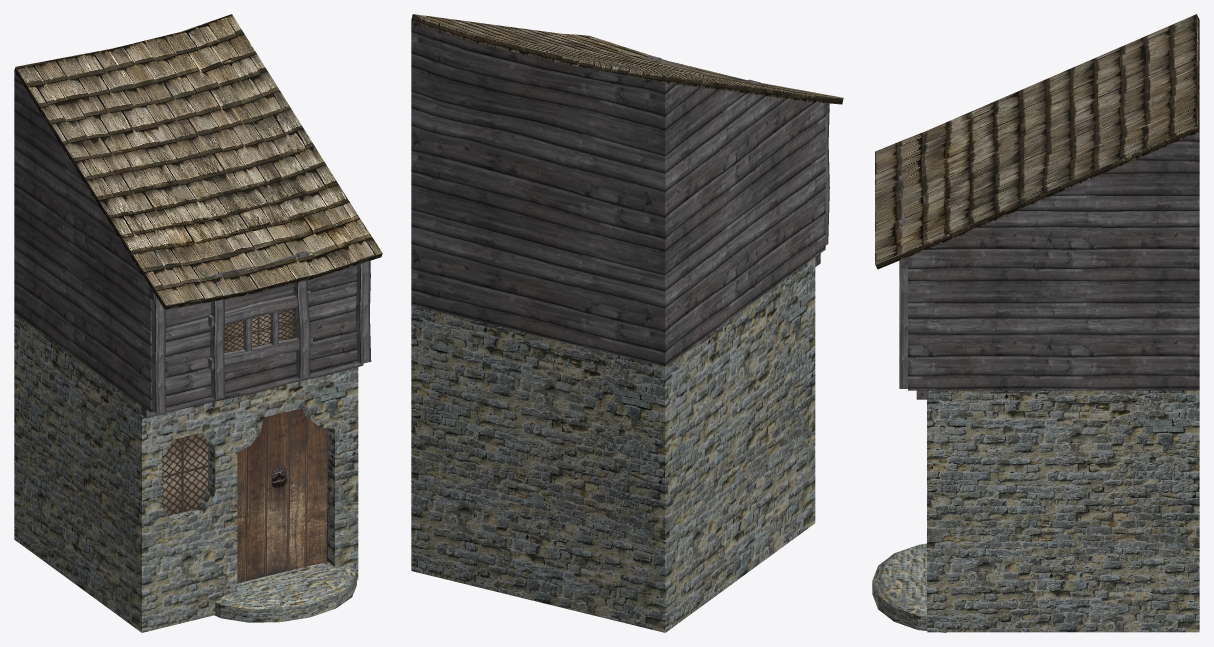
File: v3_house4.dae
3 views of the same model, side by side, from view 1: azimuth 30°, elevation 25°; view 2: azimuth 150°, elevation 25°; view 3: azimuth 270°, elevation 25° (orthographic). The views are drawn at different scales.
Visible parts, largest first — view 1: bricks_old08, roof_01, wood_planks, doorwindow_set; view 2: bricks_old08, wood_planks, roof_01; view 3: bricks_old08, wood_planks, roof_01.
Part boxes in pixels (x1,y1,x2,y2): bricks_old08: [14, 313, 358, 632]; roof_01: [14, 14, 382, 309]; wood_planks: [14, 71, 371, 418]; doorwindow_set: [161, 308, 327, 583]; bricks_old08: [411, 257, 815, 632]; wood_planks: [411, 21, 829, 366]; roof_01: [411, 14, 843, 104]; bricks_old08: [872, 390, 1199, 632]; wood_planks: [899, 132, 1199, 399]; roof_01: [875, 14, 1199, 269].
Size of the model in its own units: 2.64 by 5.53 by 3.24.
